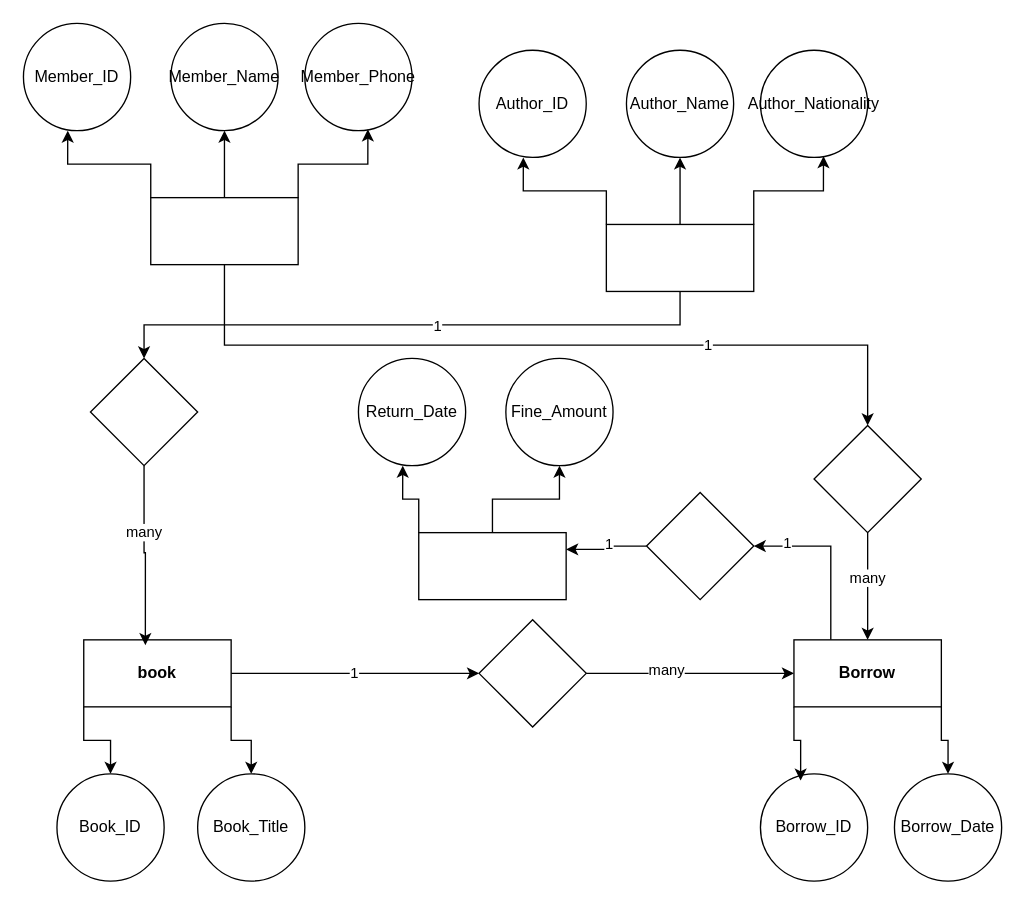
The diagram is 1025 pixels wide and 905 high, and some of its shapes have lost their labels. Here are the shapes that lost their labels. From the top down, the centre of each, then its label:
At point (223, 230): "member".
At point (679, 257): "Authors".
At point (143, 411): "can write".
At point (867, 478): "have".
At point (491, 565): "return".
At point (699, 545): "has".
At point (532, 672): "can borrowed".
